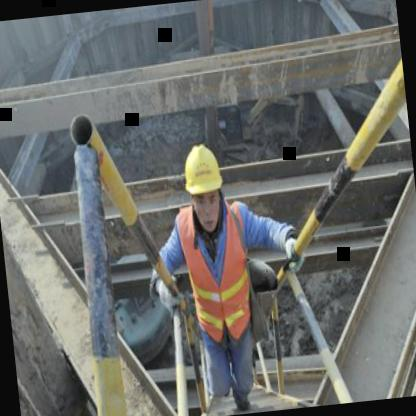helmet: (174, 134, 230, 232)
